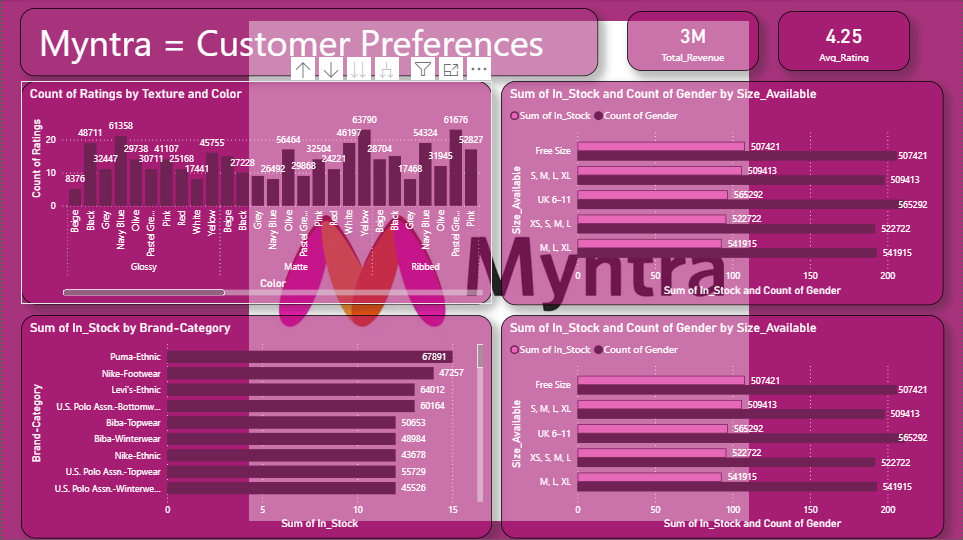

The page's visual inventory and layout, read from the dashboard file:
{"tool":"powerbi","page":{"name":"Customer Preferences","canvas":[1280,720],"ordinal":2},"visuals":[{"type":"textbox","box":[24.1,11.4,770.6,90.8],"z":0},{"type":"clusteredColumnChart","fields":{"Category":["Myntra_Fashion_Dataset.Texture","Myntra_Fashion_Dataset.Color"],"Y":["CountNonNull(Myntra_Fashion_Dataset.Ratings)"]},"box":[24.7,109.1,628.4,298.2],"z":1000},{"type":"clusteredBarChart","fields":{"Category":["Myntra_Fashion_Dataset.Brand-Category"],"Y":["Sum(Myntra_Fashion_Dataset.In_Stock)"]},"box":[24.7,421.8,628.4,298.2],"z":2000},{"type":"clusteredBarChart","fields":{"Category":["Myntra_Fashion_Dataset.Size_Available"],"Y":["Sum(Myntra_Fashion_Dataset.In_Stock)","CountNonNull(Myntra_Fashion_Dataset.Gender)"]},"box":[664.8,108.7,590.5,298.7],"z":3000},{"type":"clusteredBarChart","fields":{"Category":["Myntra_Fashion_Dataset.Size_Available"],"Y":["Sum(Myntra_Fashion_Dataset.In_Stock)","CountNonNull(Myntra_Fashion_Dataset.Gender)"]},"box":[664.7,421.8,590.5,298.2],"z":4000},{"type":"card","fields":{"Values":["Myntra_Fashion_Dataset.Total_Revenue"]},"box":[833.5,16,176,80],"z":5000},{"type":"card","fields":{"Values":["Myntra_Fashion_Dataset.Avg_Rating"]},"box":[1034.2,16,176,80],"z":6000}]}

Visuals, with their boxes on the page's 1280x720 design canvas (x1, y1, x2, y2). These are canvas units, not pixel positions in the 963x540 screenshot, which may show the page scaled, cropped or inside an application window:
textbox: box=[24, 11, 795, 102]
clusteredColumnChart - Myntra_Fashion_Dataset.Texture x Myntra_Fashion_Dataset.Color: box=[25, 109, 653, 407]
clusteredBarChart - Myntra_Fashion_Dataset.Brand-Category x Sum(Myntra_Fashion_Dataset.In_Stock): box=[25, 422, 653, 720]
clusteredBarChart - Myntra_Fashion_Dataset.Size_Available x Sum(Myntra_Fashion_Dataset.In_Stock): box=[665, 109, 1255, 407]
clusteredBarChart - Myntra_Fashion_Dataset.Size_Available x Sum(Myntra_Fashion_Dataset.In_Stock): box=[665, 422, 1255, 720]
card - Myntra_Fashion_Dataset.Total_Revenue: box=[834, 16, 1010, 96]
card - Myntra_Fashion_Dataset.Avg_Rating: box=[1034, 16, 1210, 96]
